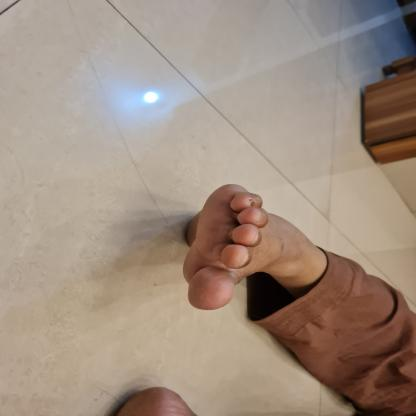leg: (166, 178, 337, 318)
